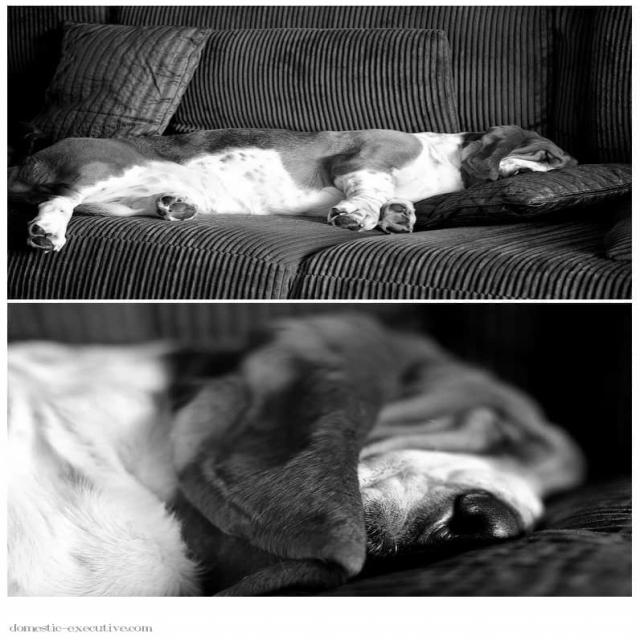laying down: (1, 94, 582, 257)
